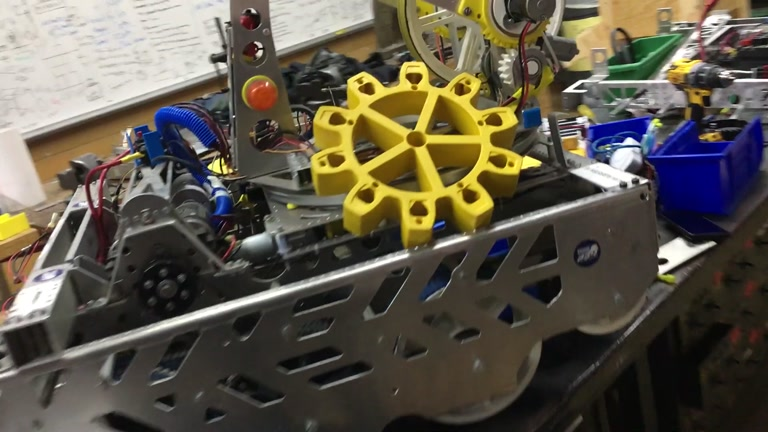gear: (311, 61, 524, 248)
